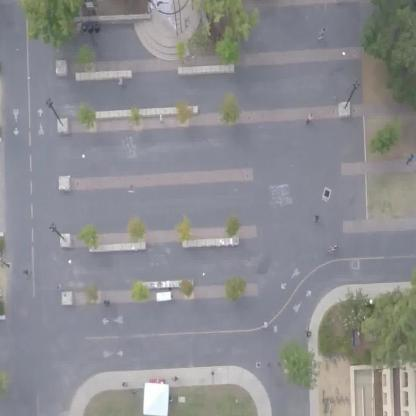Bicyclist: (22, 266, 34, 282), (329, 242, 338, 260), (304, 327, 312, 340), (101, 298, 111, 306)
Pedestrian: (312, 27, 330, 44), (305, 112, 317, 126), (121, 380, 133, 392), (113, 77, 126, 88), (406, 154, 413, 170), (171, 375, 180, 386), (208, 368, 217, 378), (158, 114, 166, 125), (131, 388, 139, 398)
